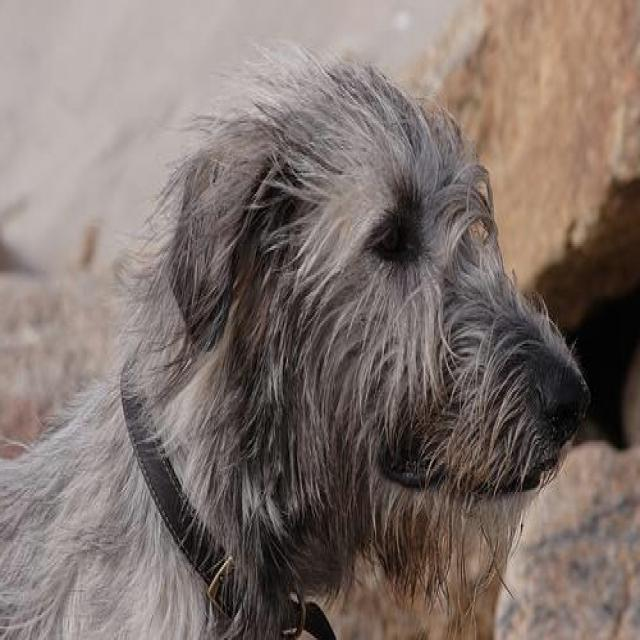irish_wolfhound: (1, 31, 590, 638)
